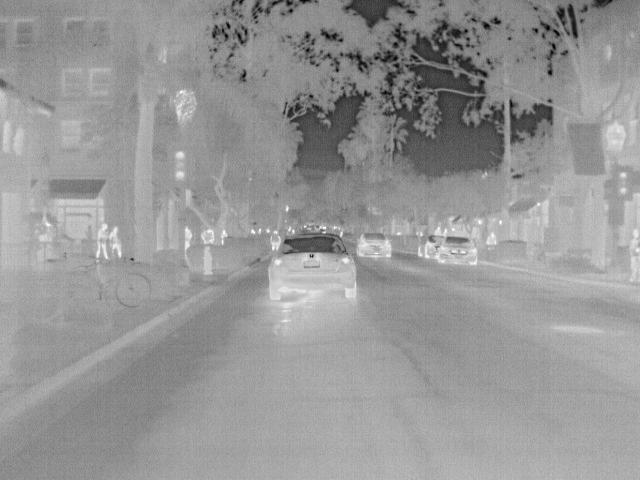car: (265, 235, 358, 302), (435, 235, 480, 268), (356, 233, 392, 258), (417, 236, 437, 258)
person: (627, 227, 640, 282), (105, 226, 124, 260), (95, 224, 110, 261), (182, 225, 194, 251), (199, 226, 216, 244), (269, 230, 284, 250), (485, 230, 498, 246), (219, 228, 232, 244)
